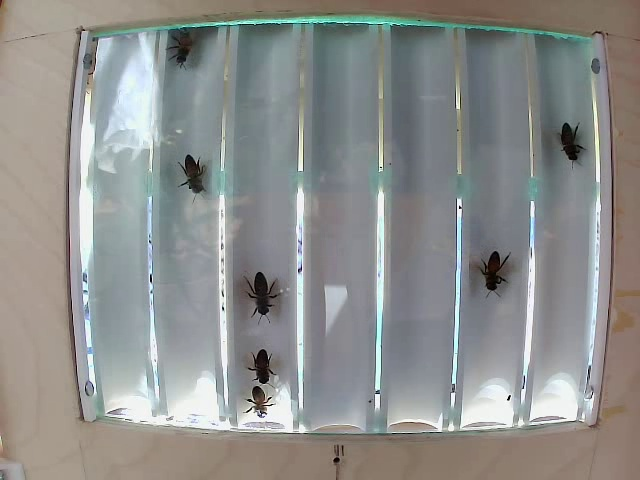bee: (173, 151, 219, 202), (243, 266, 290, 311), (240, 341, 284, 388), (558, 120, 595, 172), (237, 380, 277, 425), (471, 240, 505, 289)
